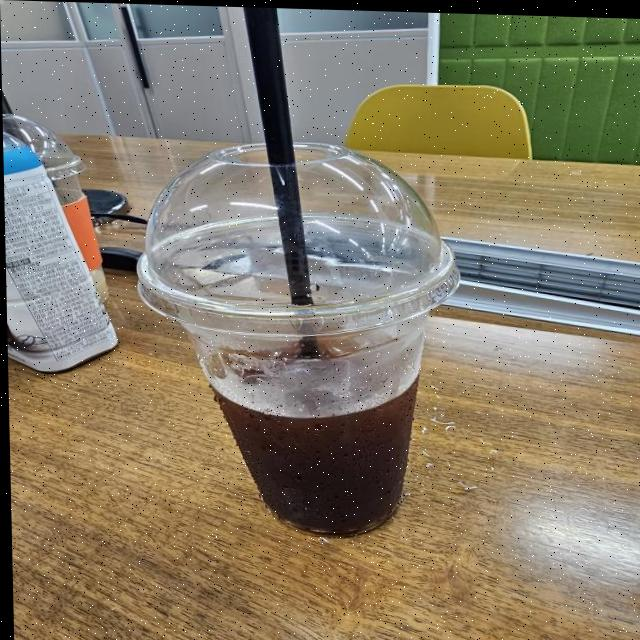cup: (125, 133, 468, 538)
